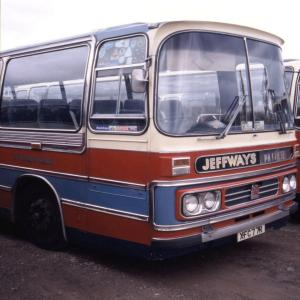Vehicle-registration-plate: (238, 226, 267, 241)
